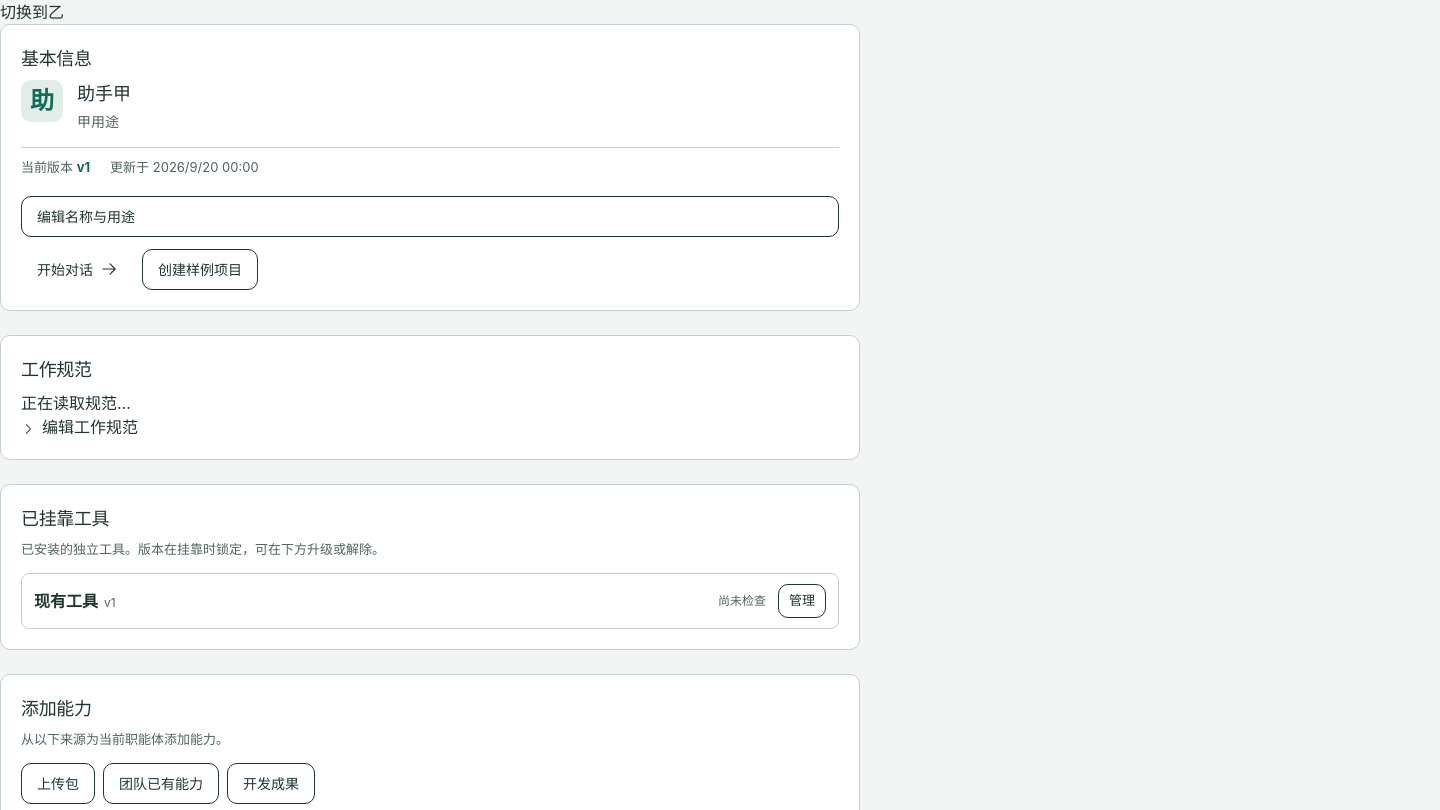
Scenario: team add flow exposes an available unbound tool in the current agent context
Click the button "团队已有能力": (161, 784) [103,763,219,804]
(page scrolled)
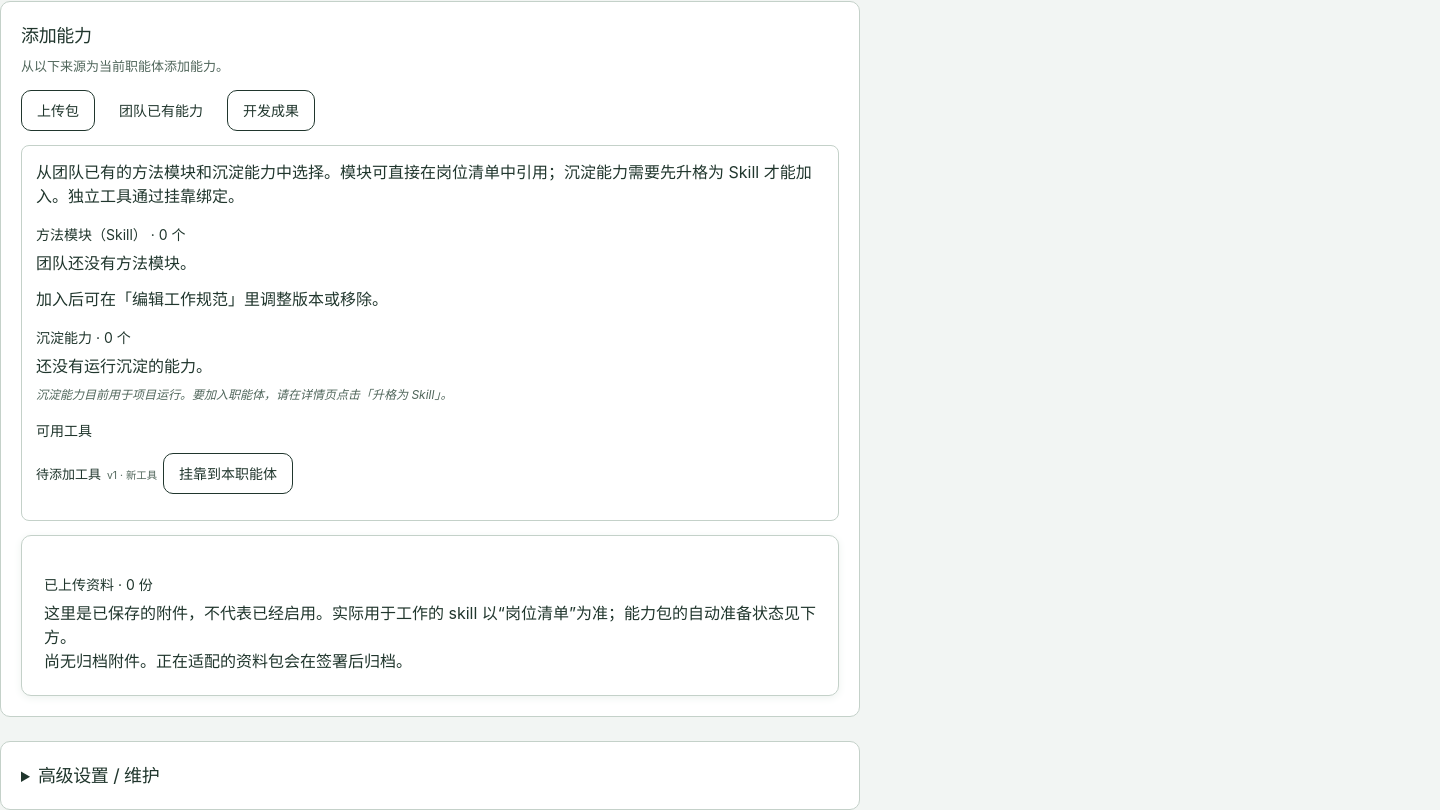
Expected: the link "待添加工具" is shown, [36,465,101,485]
